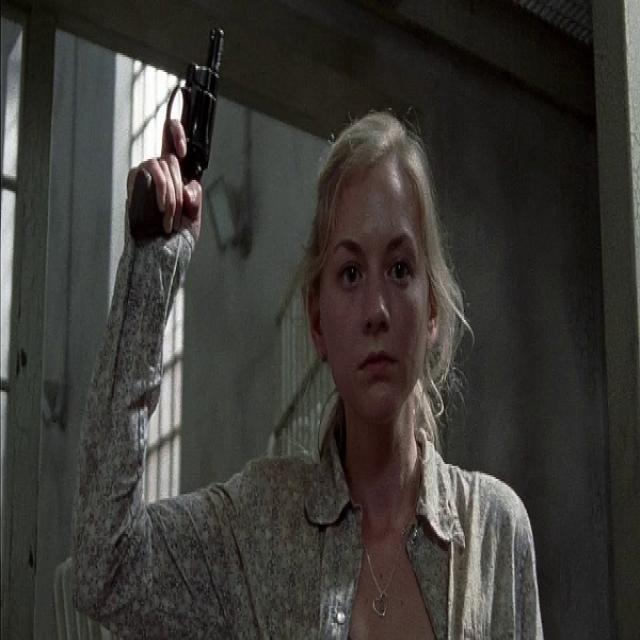weapons: (115, 3, 235, 277)
